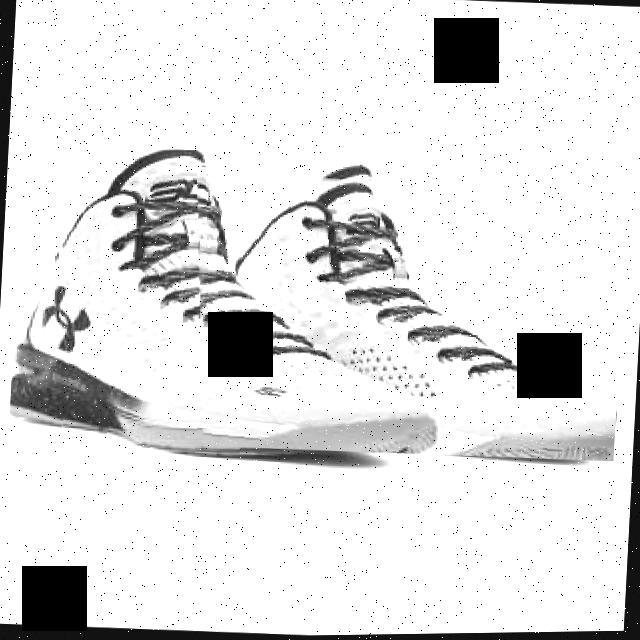shoe: (8, 139, 431, 471), (182, 161, 628, 468)
